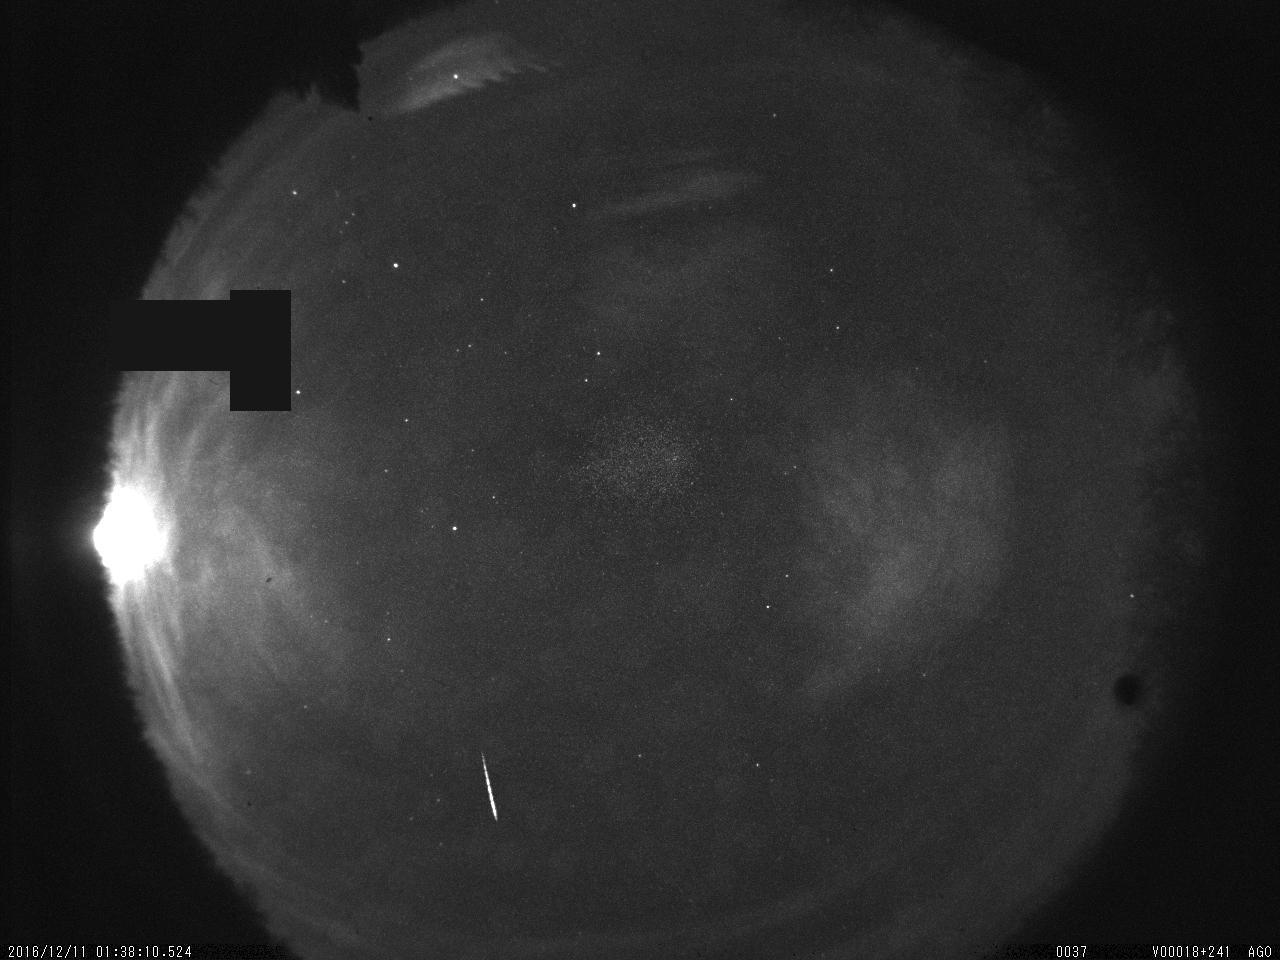Meteor: (478, 745, 506, 836)
